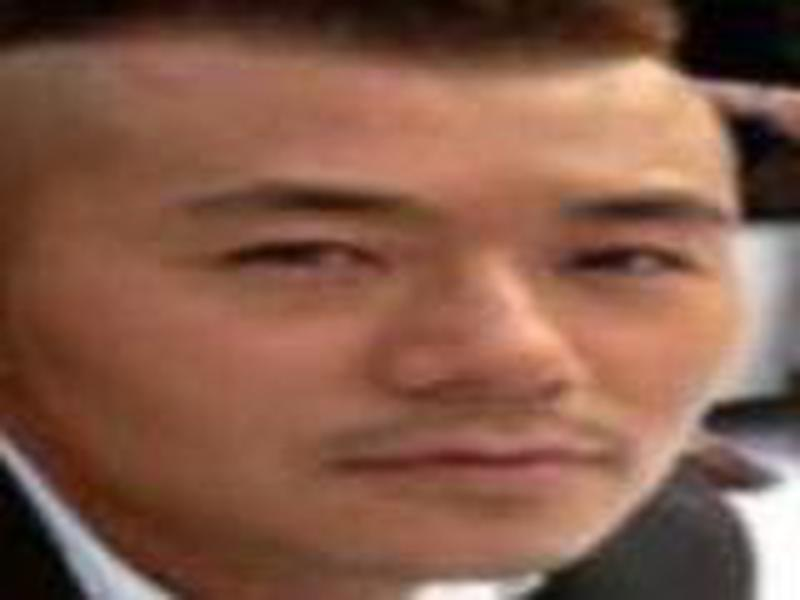without_mask: (10, 67, 744, 582)
